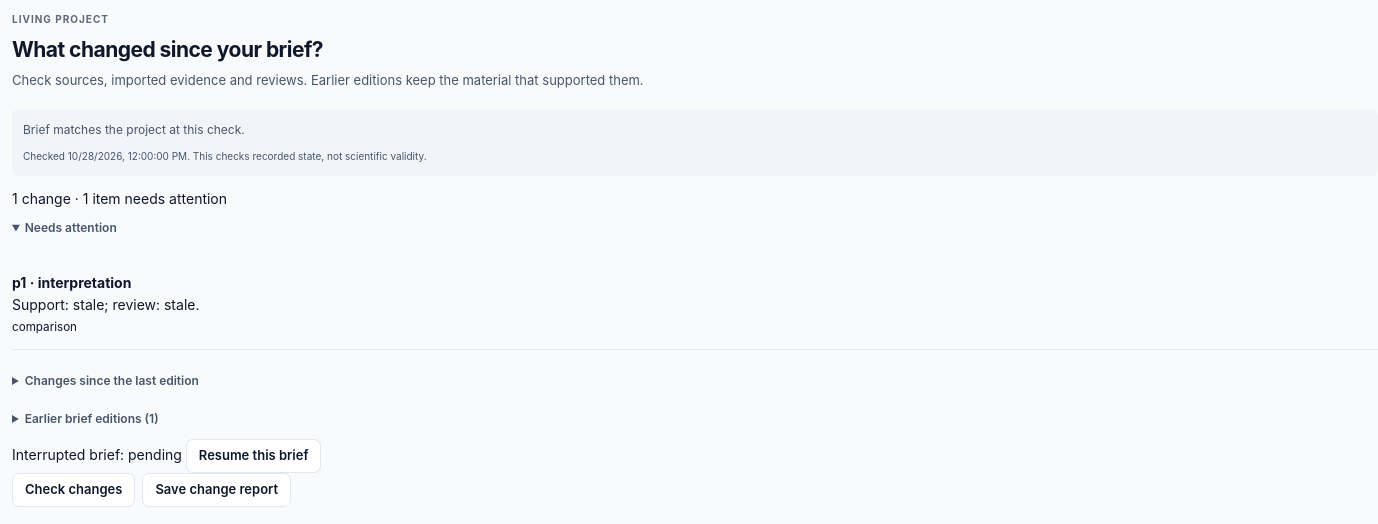
removes a previously current label when a new check fails
Click the button "Check changes". click: (74, 490)
box: [12,473,135,507]
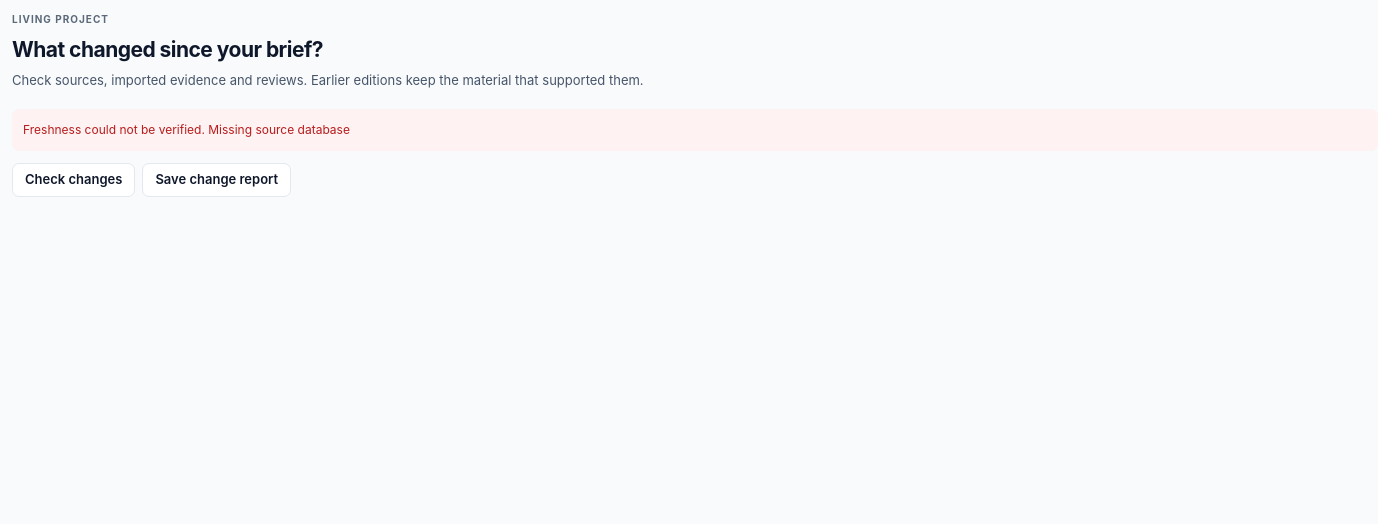
expect the text "Brief matches the project" is gone: met
expect the text "Freshness could not be verified" is shown: met, box [23,122,208,137]
